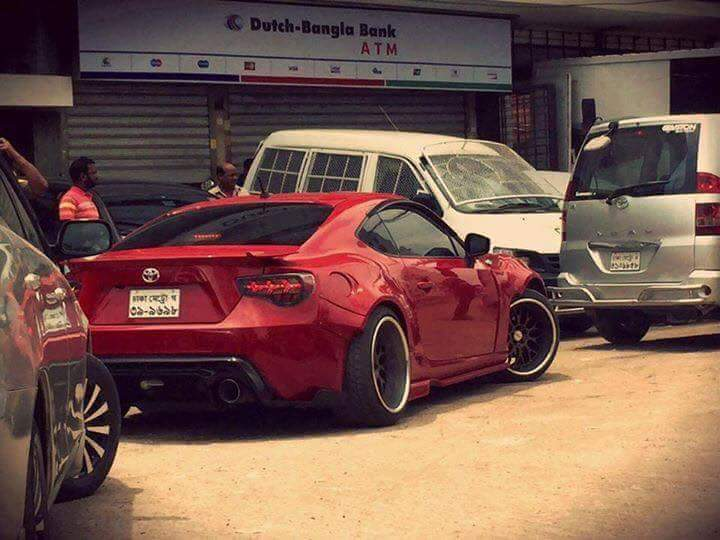registration_plate: (128, 289, 180, 318), (610, 252, 641, 270)
